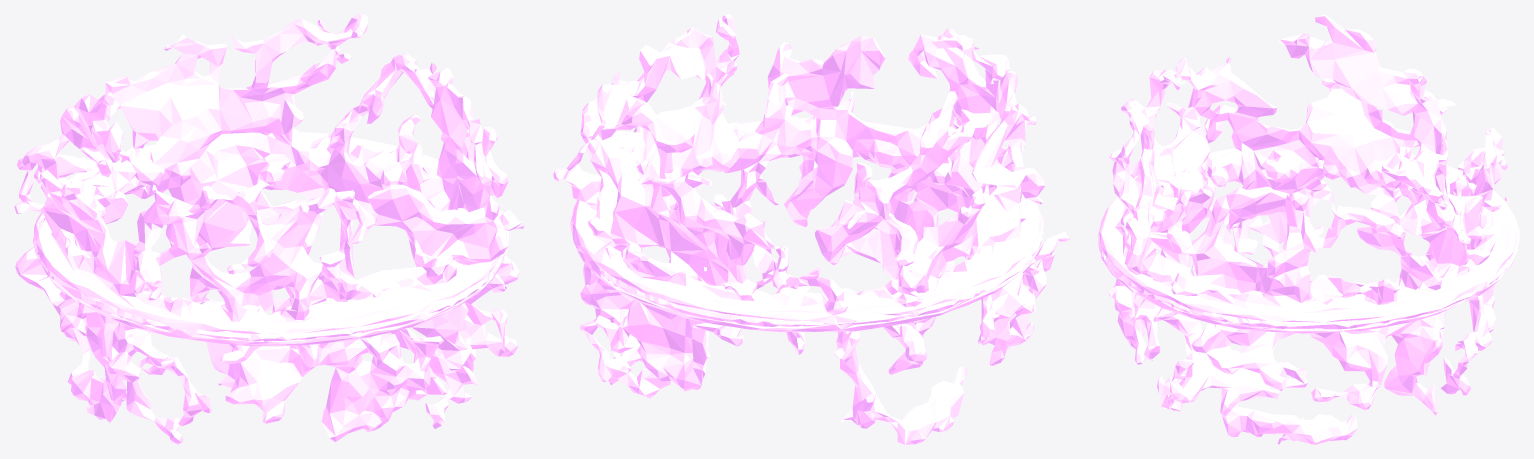
Rendered from snr-sn1987a.glb.
The picture shows the model from 3 angles, left to right: view 1: azimuth 30°, elevation 25°; view 2: azimuth 150°, elevation 25°; view 3: azimuth 270°, elevation 25°; orthographic projection. The views are drawn at different scales.
Parts seen in each view (by area): view 1: Combined.stl; view 2: Combined.stl; view 3: Combined.stl.
Part boxes in pixels (x1,y1,x2,y2): Combined.stl: [14, 14, 524, 444]; Combined.stl: [553, 14, 1069, 444]; Combined.stl: [1098, 14, 1519, 444].
Size of the model in its own units: 0.4039 by 0.3297 by 0.4039.
